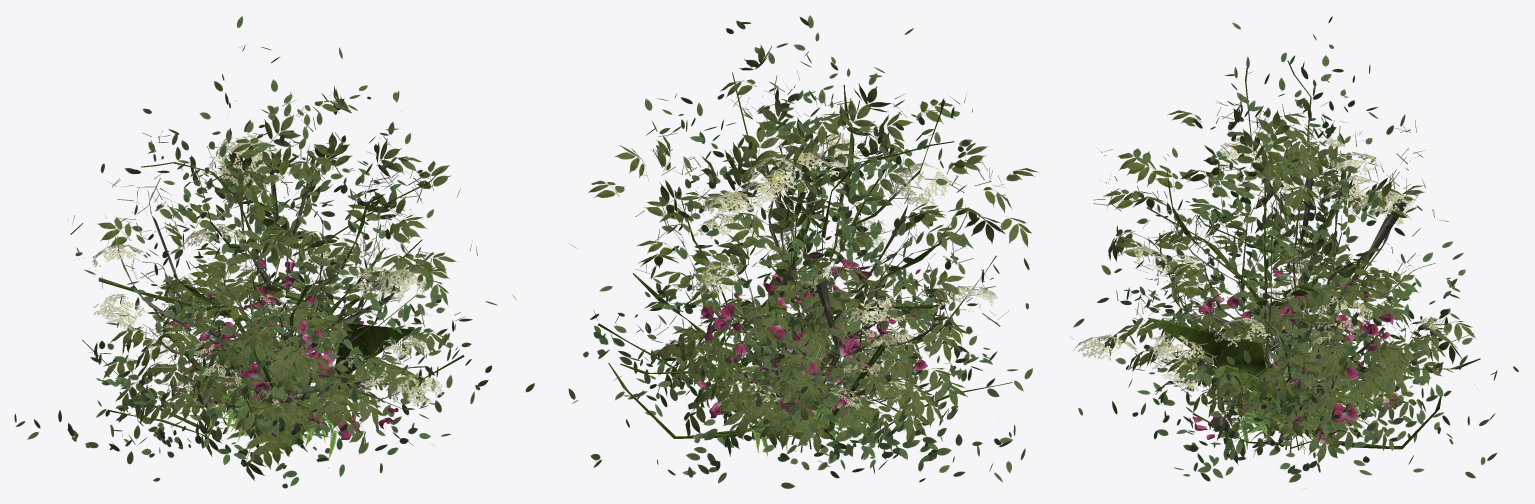
Rendered from vegetation_04.glb.
3 renders of one model, left to right at view 1: azimuth 30°, elevation 25°; view 2: azimuth 150°, elevation 25°; view 3: azimuth 270°, elevation 25°, orthographic. The views are drawn at different scales.
Parts seen in each view (by area): view 1: prototype_034, prototype_033, prototype_032, prototype_035, prototype_039, prototype_038, prototype_037, prototype_036; view 2: prototype_034, prototype_033, prototype_032, prototype_035, prototype_039, prototype_038, prototype_036, prototype_037; view 3: prototype_034, prototype_033, prototype_032, prototype_035, prototype_038, prototype_039, prototype_036, prototype_037.
Part boxes in pixels (left/top/right/bottom): prototype_034: left=67, top=86, right=477, bottom=480; prototype_033: left=14, top=16, right=534, bottom=488; prototype_032: left=123, top=252, right=401, bottom=456; prototype_035: left=222, top=296, right=332, bottom=435; prototype_039: left=171, top=259, right=363, bottom=415; prototype_038: left=175, top=276, right=398, bottom=439; prototype_037: left=215, top=364, right=337, bottom=458; prototype_036: left=205, top=358, right=350, bottom=451; prototype_034: left=588, top=45, right=1038, bottom=454; prototype_033: left=568, top=15, right=1033, bottom=488; prototype_032: left=644, top=244, right=949, bottom=456; prototype_035: left=740, top=283, right=865, bottom=430; prototype_039: left=700, top=254, right=920, bottom=436; prototype_038: left=657, top=259, right=927, bottom=441; prototype_036: left=737, top=355, right=885, bottom=456; prototype_037: left=736, top=362, right=878, bottom=452; prototype_034: left=1073, top=97, right=1475, bottom=465; prototype_033: left=1070, top=16, right=1518, bottom=482; prototype_032: left=1172, top=230, right=1452, bottom=449; prototype_035: left=1248, top=301, right=1347, bottom=437; prototype_038: left=1192, top=295, right=1397, bottom=447; prototype_039: left=1197, top=269, right=1395, bottom=401; prototype_036: left=1226, top=356, right=1369, bottom=457; prototype_037: left=1216, top=363, right=1375, bottom=450.
Bounding box in the file's own units: 4.55 × 4.38 × 4.19.
14 materials, 14 textured.
